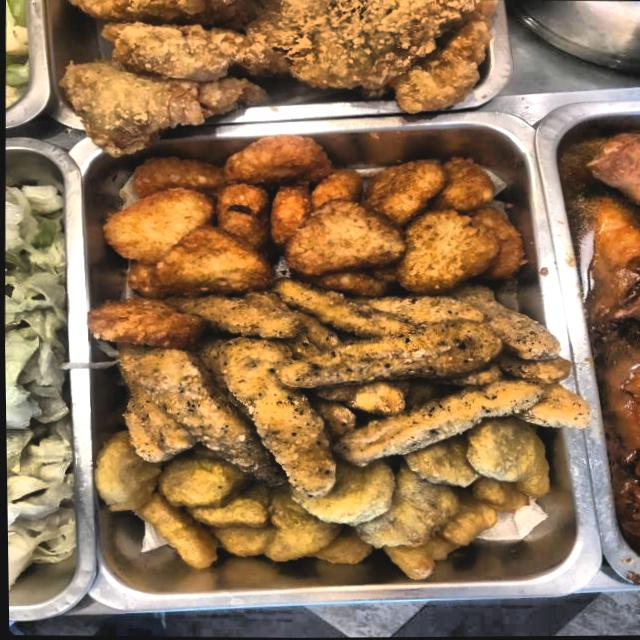Food: (105, 162, 512, 284), (144, 455, 479, 563), (81, 0, 461, 92), (2, 196, 55, 541)
